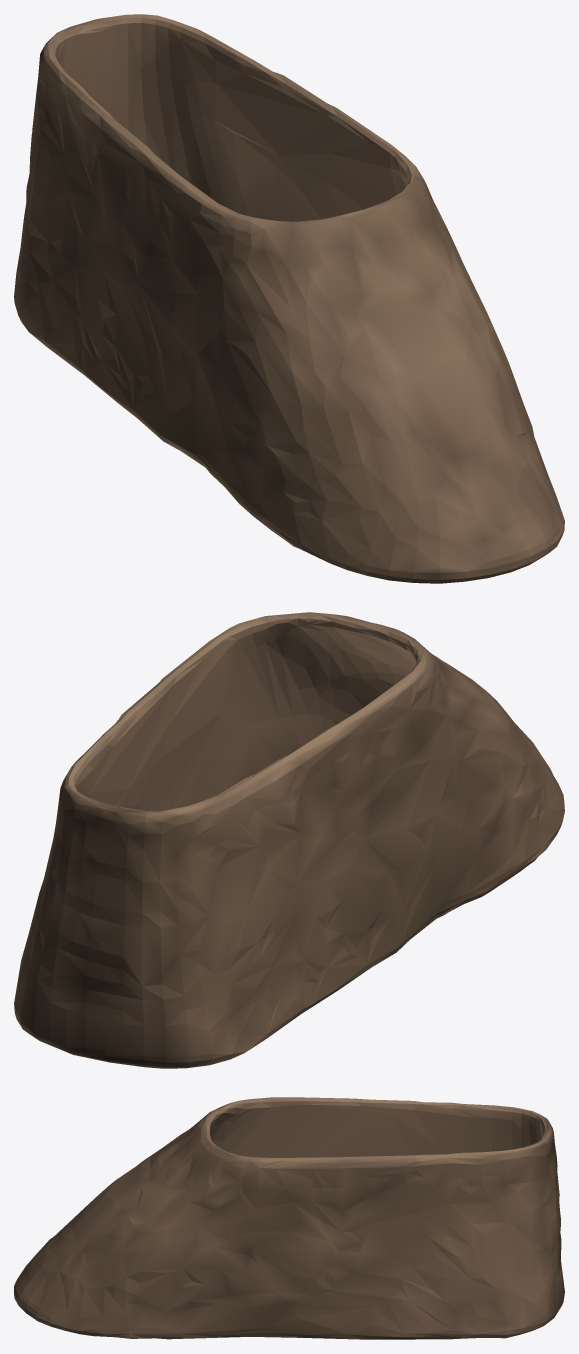
The model's file is gilt_bronze_shoes_of_the_sikrichong_tomb_b1f6f2ca.glb.
3 renders of one model, top to bottom at view 1: azimuth 30°, elevation 25°; view 2: azimuth 150°, elevation 25°; view 3: azimuth 270°, elevation 25°, orthographic. The views are drawn at different scales.
Parts seen in each view (by area): view 1: SM_24RE0045_Low_01 - Default_0; view 2: SM_24RE0045_Low_01 - Default_0; view 3: SM_24RE0045_Low_01 - Default_0.
Part boxes in pixels (<box>): SM_24RE0045_Low_01 - Default_0: <box>14,14,564,583</box>; SM_24RE0045_Low_01 - Default_0: <box>14,612,564,1068</box>; SM_24RE0045_Low_01 - Default_0: <box>14,1097,564,1339</box>.
Bounding box in the file's own units: 0.1137 × 0.1105 × 0.3197.
